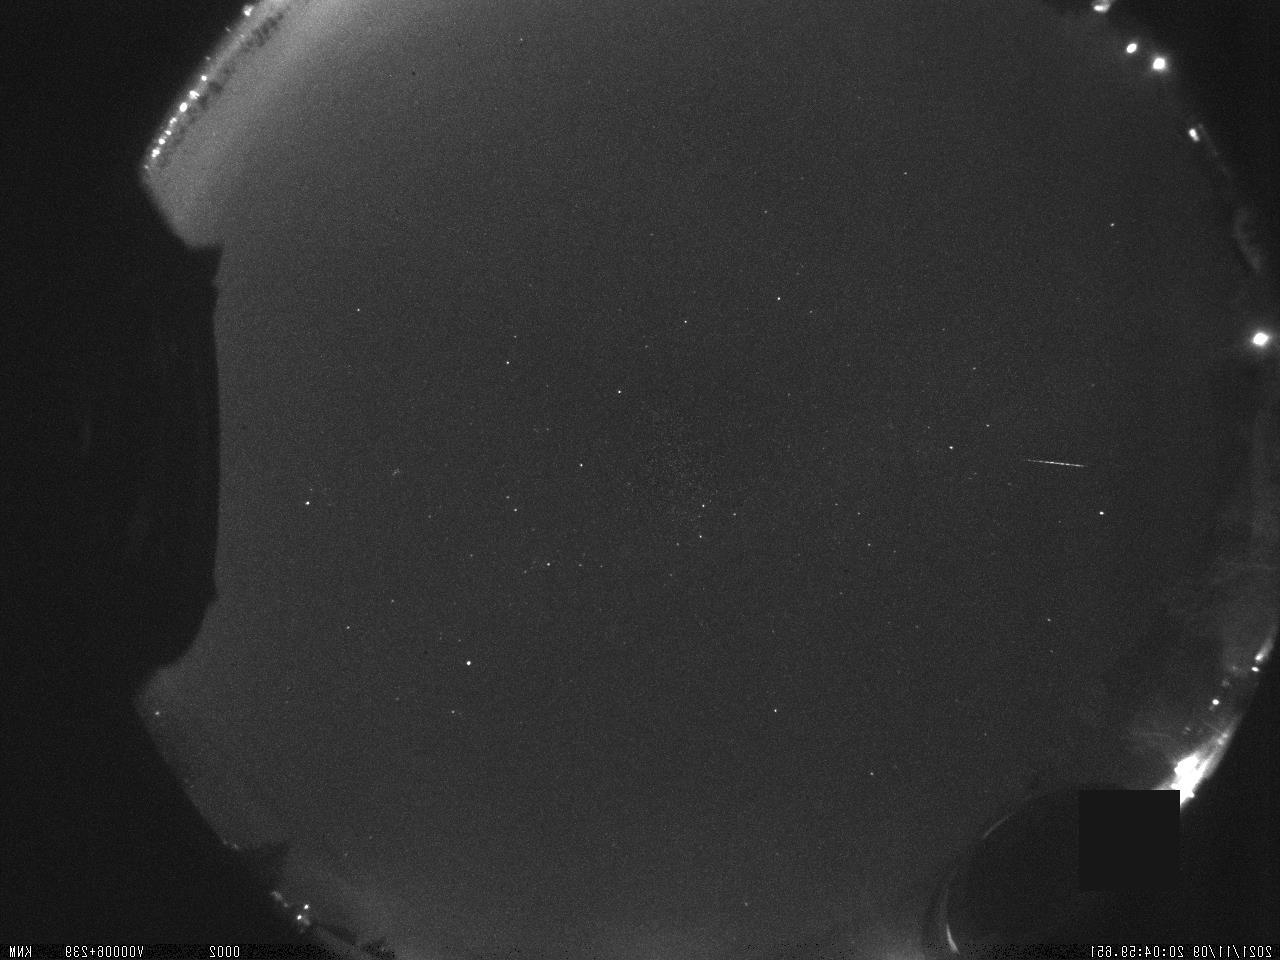meteor: (1018, 449, 1088, 479)
